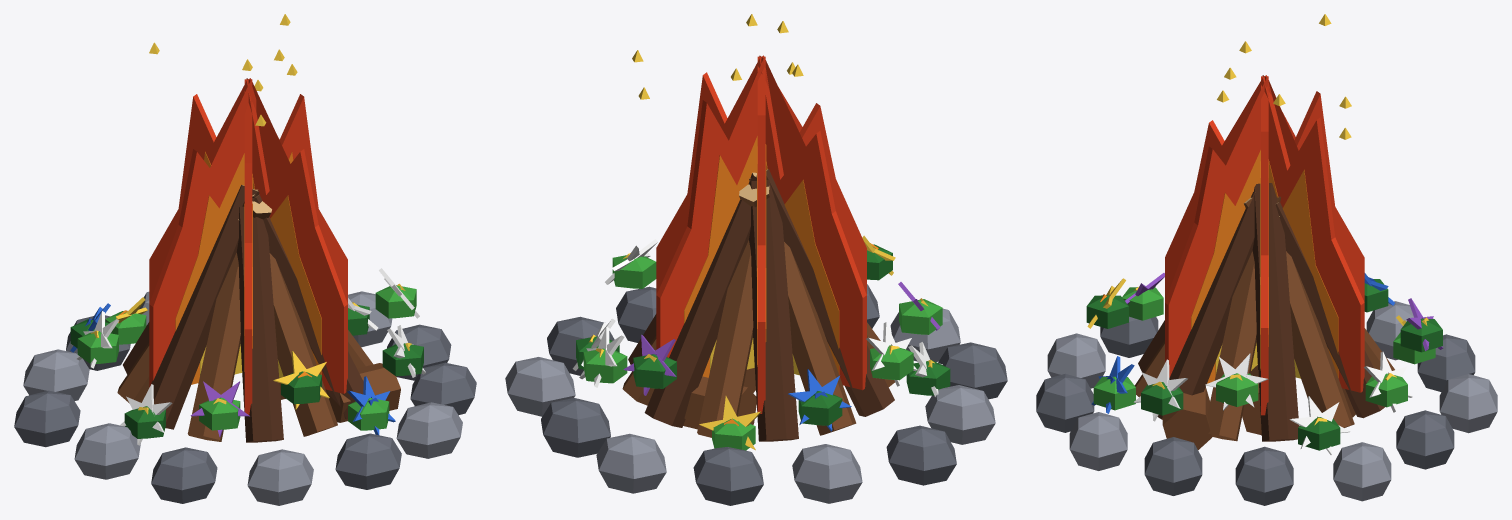
Rendered from bonfire-2x2.glb.
The picture shows the model from 3 angles, left to right: view 1: azimuth 30°, elevation 25°; view 2: azimuth 150°, elevation 25°; view 3: azimuth 270°, elevation 25°; orthographic projection. The views are drawn at different scales.
Visible parts, largest first — view 1: bonfire-2x2; view 2: bonfire-2x2; view 3: bonfire-2x2.
Boxes of the visible parts, box(x1,y1,x2,y2) form: bonfire-2x2: box(14, 14, 476, 505); bonfire-2x2: box(505, 14, 1007, 505); bonfire-2x2: box(1036, 14, 1497, 505).
Bounding box in the file's own units: 1.8 × 1.55 × 1.73.
1 material, 1 textured.
